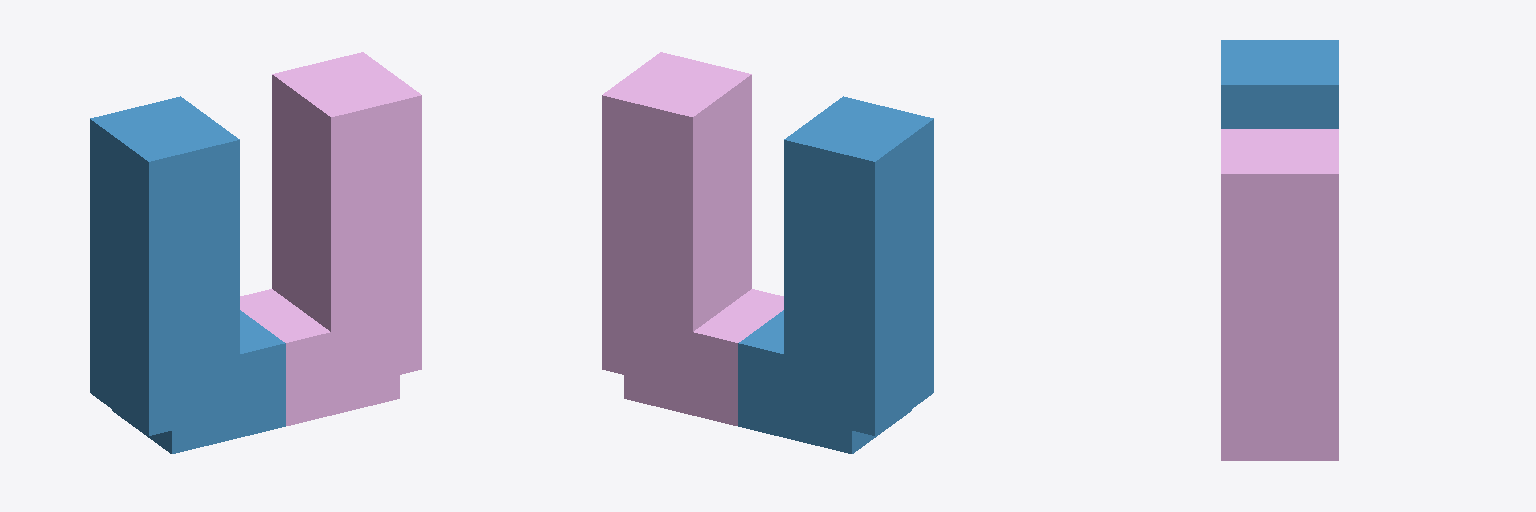
3 renders of one model, left to right at view 1: azimuth 30°, elevation 25°; view 2: azimuth 150°, elevation 25°; view 3: azimuth 270°, elevation 25°, orthographic.
Visible parts, largest first — view 1: 자석; view 2: 자석; view 3: 자석.
Part boxes in pixels (bbox=[...]): 자석: bbox=[90, 52, 421, 453]; 자석: bbox=[602, 52, 933, 453]; 자석: bbox=[1221, 40, 1338, 460].
Bounding box in the file's own units: 24 × 25 × 9.
Materials: 1 (1 with a texture image).